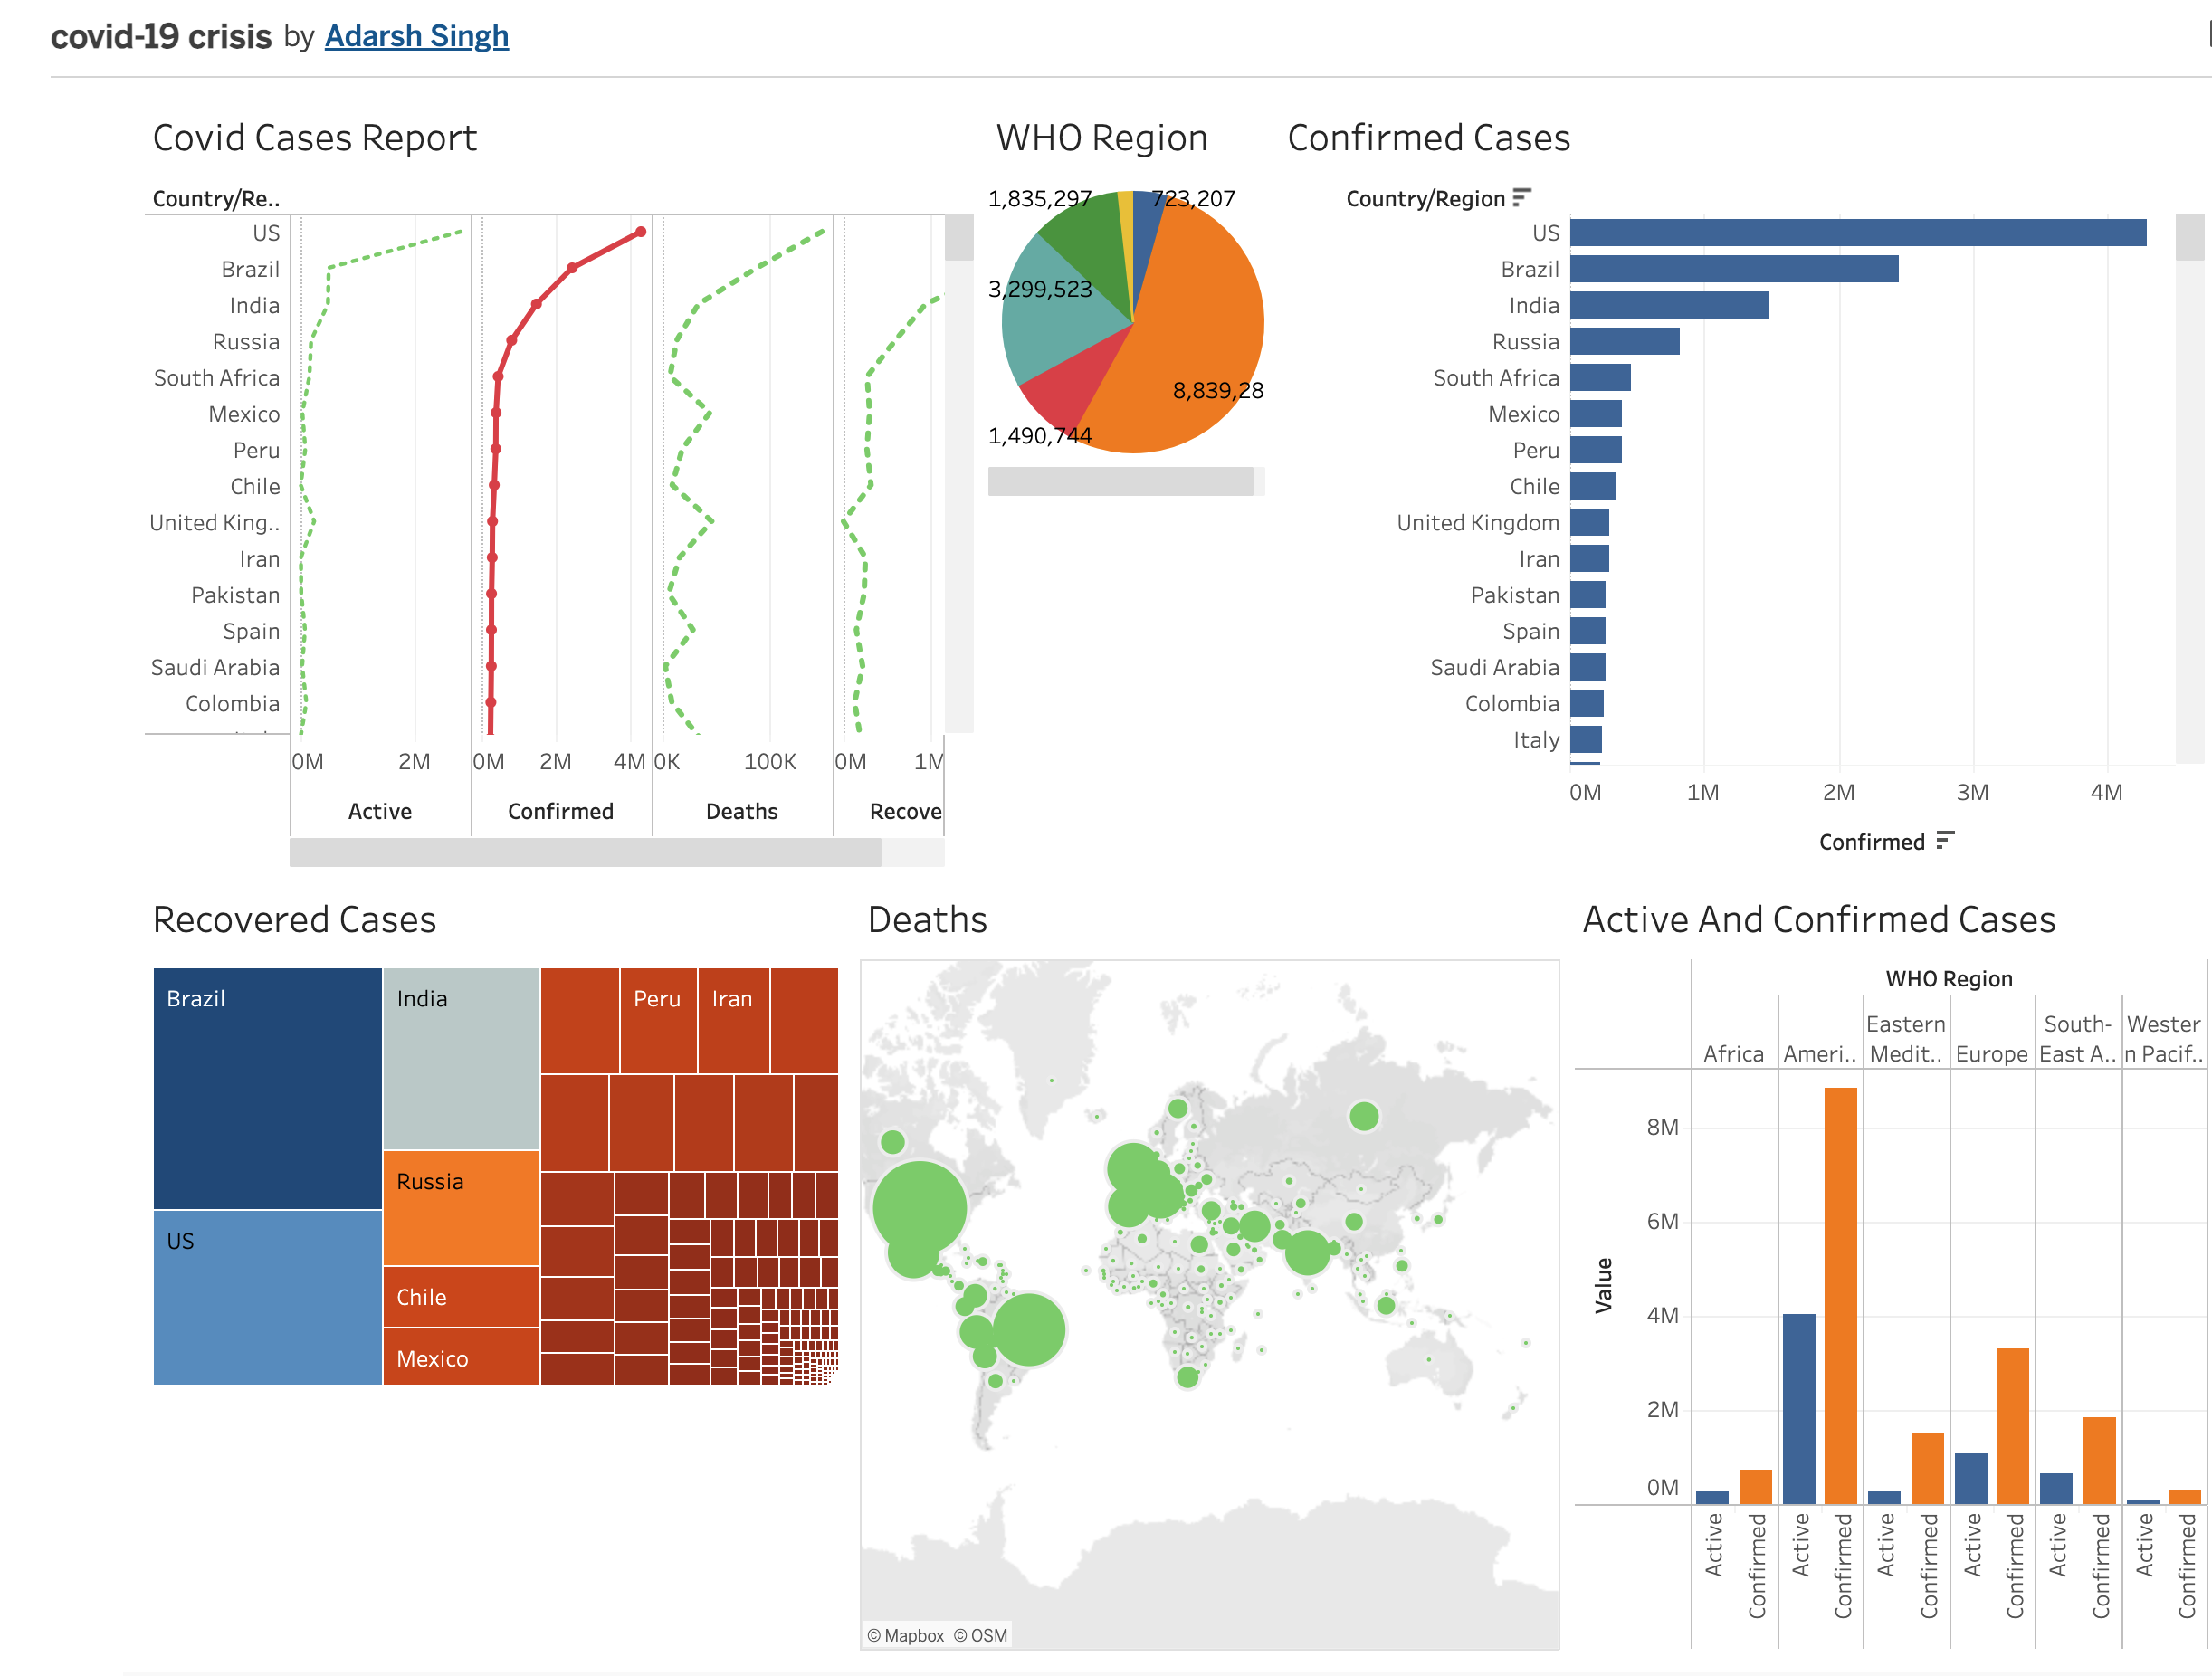

What the dashboard file says about the page in this screenshot:
{"tool":"tableau","page":{"name":"Covid-19","canvas":[1000,1000],"units":"permille","ordinal":0},"visuals":[{"type":"worksheet","title":"Covid Cases Report","mark":"Line","rows":["Country/Region"],"cols":["Active","Confirmed","Deaths","Recovered"],"box":[6.1,9.1,353.1,490.9]},{"type":"worksheet","title":"WHO Region","mark":"Pie","box":[359.2,9.1,121.9,490.9]},{"type":"worksheet","title":"Confirmed Cases","mark":"Bar","rows":["Country/Region"],"cols":["Confirmed"],"box":[481.1,9.1,394.6,490.9]},{"type":"legend","title":"Active And Confirmed Cases","param":"[federated.1ojmq751wlbwxe1fu5h5f0bi57o6].[:Measure Names]","box":[875.8,9.1,118.2,76.5]},{"type":"legend","title":"Deaths","param":"[federated.1ojmq751wlbwxe1fu5h5f0bi57o6].[sum:Deaths:qk]","box":[875.8,85.6,118.2,122.1]},{"type":"legend","title":"WHO Region","param":"[federated.1ojmq751wlbwxe1fu5h5f0bi57o6].[sum:Confirmed:qk]","box":[875.8,207.8,118.2,53.6]},{"type":"legend","title":"WHO Region","param":"[federated.1ojmq751wlbwxe1fu5h5f0bi57o6].[none:WHO Region:nk]","box":[875.8,261.4,118.2,167.8]},{"type":"legend","title":"Recovered Cases","param":"[federated.1ojmq751wlbwxe1fu5h5f0bi57o6].[sum:Recovered:qk]","box":[875.8,429.2,118.2,77.6]},{"type":"worksheet","title":"Recovered Cases","mark":"Automatic","box":[6.1,500,299.2,490.9]},{"type":"worksheet","title":"Deaths","mark":"Automatic","box":[305.2,500,299.2,490.9]},{"type":"worksheet","title":"Active And Confirmed Cases","mark":"Automatic","cols":["WHO Region"],"box":[604.4,500,271.4,490.9]}]}

Visuals, with their boxes on the dashboard's canvas, which has no fixed pixel size, in thousandths of its width and height (x1, y1, x2, y2). These are canvas units, not pixel positions in the 2212x1676 screenshot, which may show the page scaled, cropped or inside an application window:
"Covid Cases Report" worksheet (Line marks): select_region(6, 9, 359, 500)
"WHO Region" worksheet (Pie marks): select_region(359, 9, 481, 500)
"Confirmed Cases" worksheet (Bar marks): select_region(481, 9, 876, 500)
"Active And Confirmed Cases" legend: select_region(876, 9, 994, 86)
"Deaths" legend: select_region(876, 86, 994, 208)
"WHO Region" legend: select_region(876, 208, 994, 261)
"WHO Region" legend: select_region(876, 261, 994, 429)
"Recovered Cases" legend: select_region(876, 429, 994, 507)
"Recovered Cases" worksheet: select_region(6, 500, 305, 991)
"Deaths" worksheet: select_region(305, 500, 604, 991)
"Active And Confirmed Cases" worksheet: select_region(604, 500, 876, 991)
